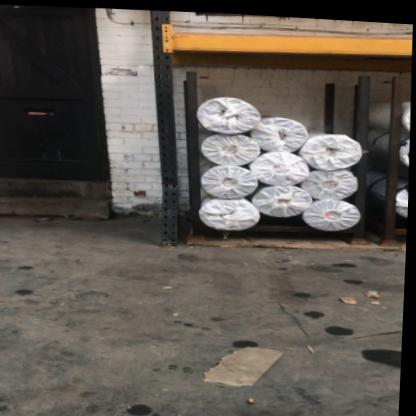vertical_damage: (152, 165, 191, 205)
